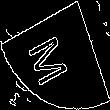M_NE: (31, 24, 79, 86)
